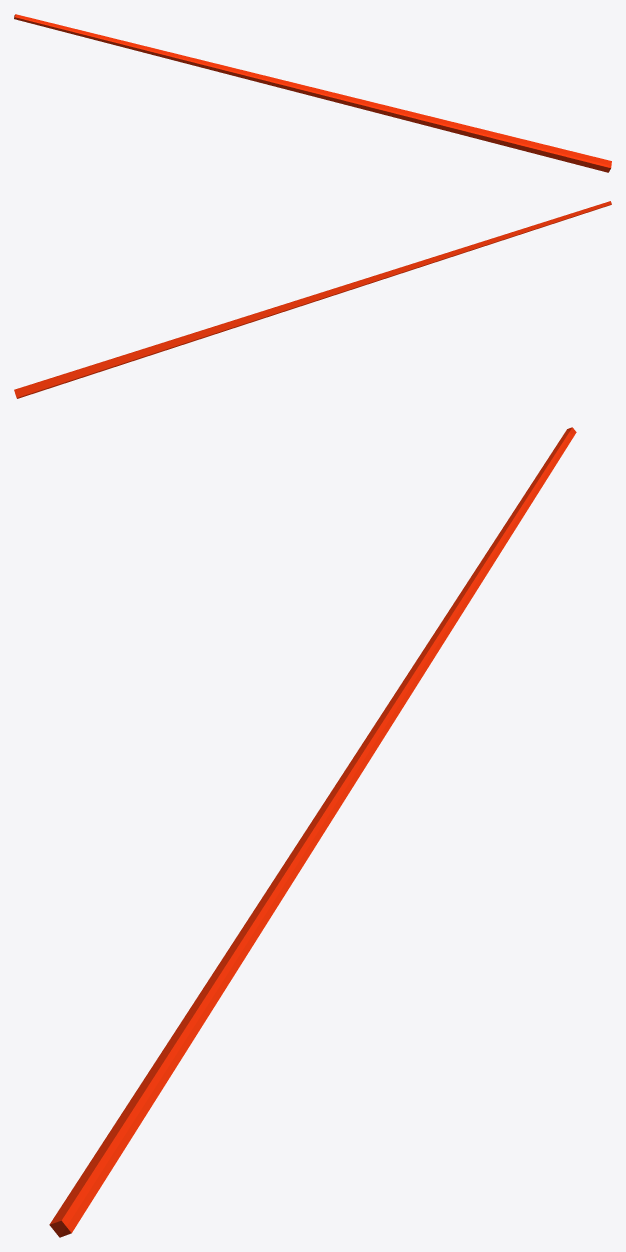
The model's file is Event_421278790_EBrechit_16.fbx.
3 renders of one model, top to bottom at view 1: azimuth 30°, elevation 25°; view 2: azimuth 210°, elevation 25°; view 3: azimuth 270°, elevation 25°, orthographic. The views are drawn at different scales.
Parts seen in each view (by area): view 1: Model; view 2: Model; view 3: Model.
Boxes of the visible parts, <box> form: Model: <box>14,14,611,172</box>; Model: <box>14,201,611,398</box>; Model: <box>49,427,576,1237</box>.
Bounding box in the file's own units: 8.66 × 3.14 × 4.2.
